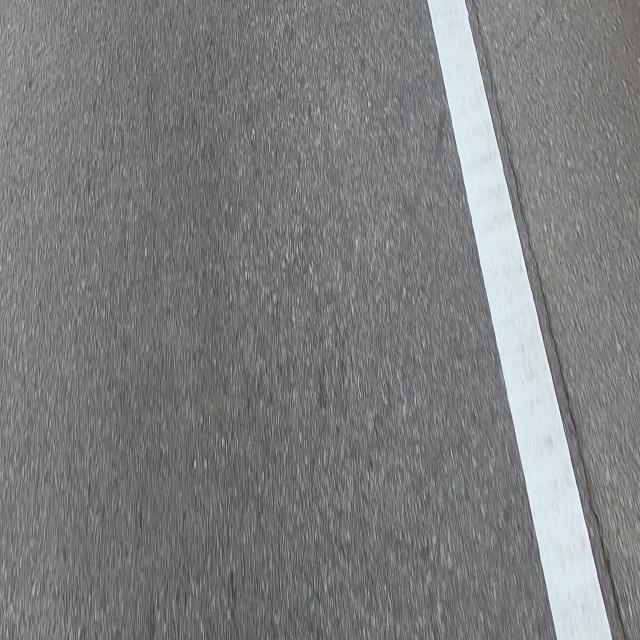Retak-Memanjang: (469, 1, 630, 640)
